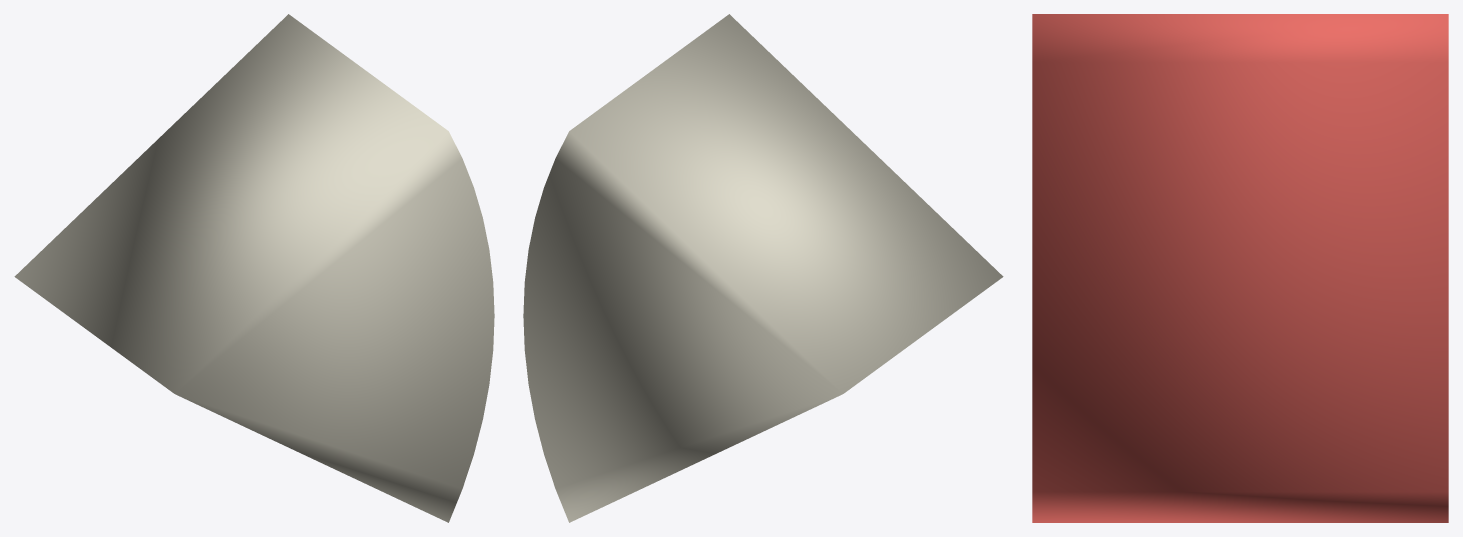
File: food_apple_piece.glb
The picture shows the model from 3 angles, left to right: view 1: azimuth 30°, elevation 25°; view 2: azimuth 150°, elevation 25°; view 3: azimuth 270°, elevation 25°; orthographic projection. The views are drawn at different scales.
Visible parts, largest first — view 1: food_apple_piece; view 2: food_apple_piece; view 3: food_apple_piece.
Boxes of the visible parts, box(x1,y1,x2,y2) form: food_apple_piece: box(14, 14, 494, 522); food_apple_piece: box(523, 14, 1003, 522); food_apple_piece: box(1032, 14, 1448, 522).
Bounding box in the file's own units: 0.0075 × 0.00877 × 0.0065.
